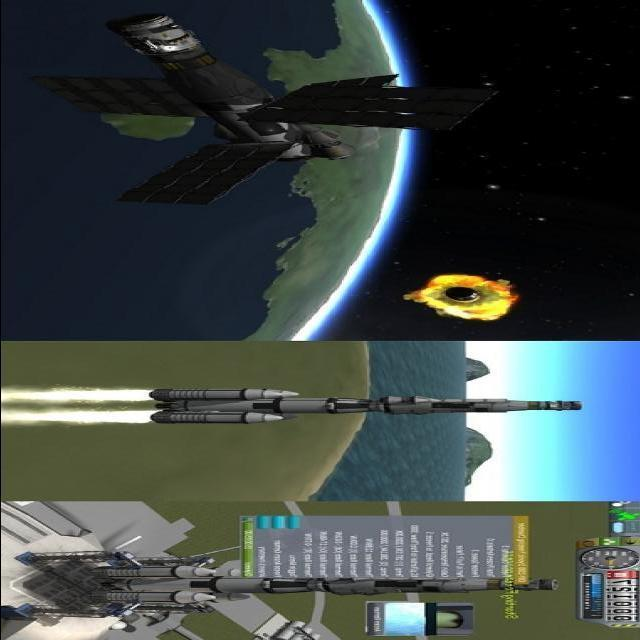missile: (157, 391, 587, 423), (122, 572, 567, 600)
